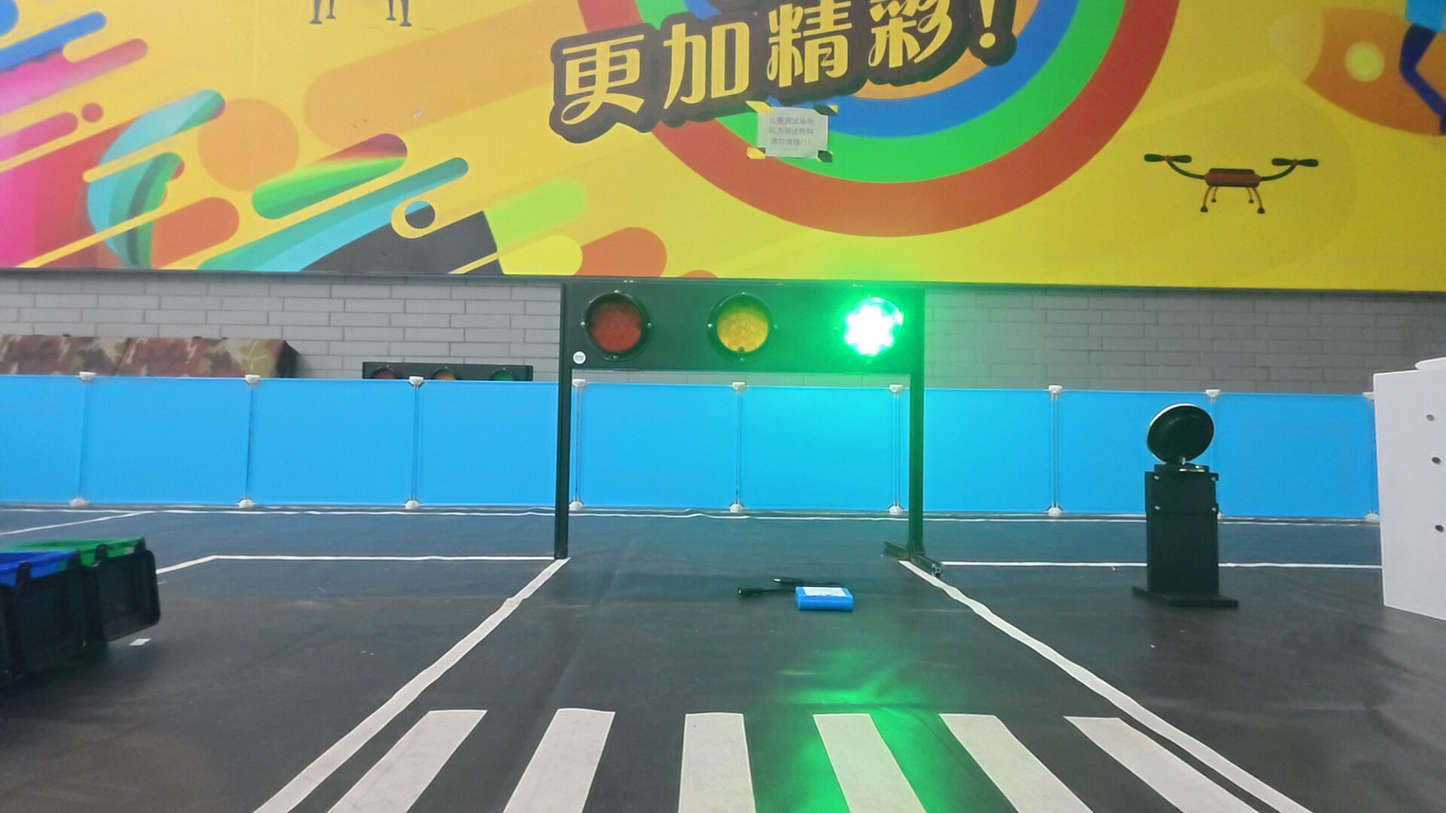go: (837, 291, 910, 366)
